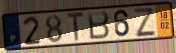2: (21, 15, 42, 46)
6: (113, 9, 131, 39)
8: (44, 13, 64, 45)
B: (87, 10, 111, 41)
T: (66, 11, 85, 44)
Z: (132, 7, 158, 38)
